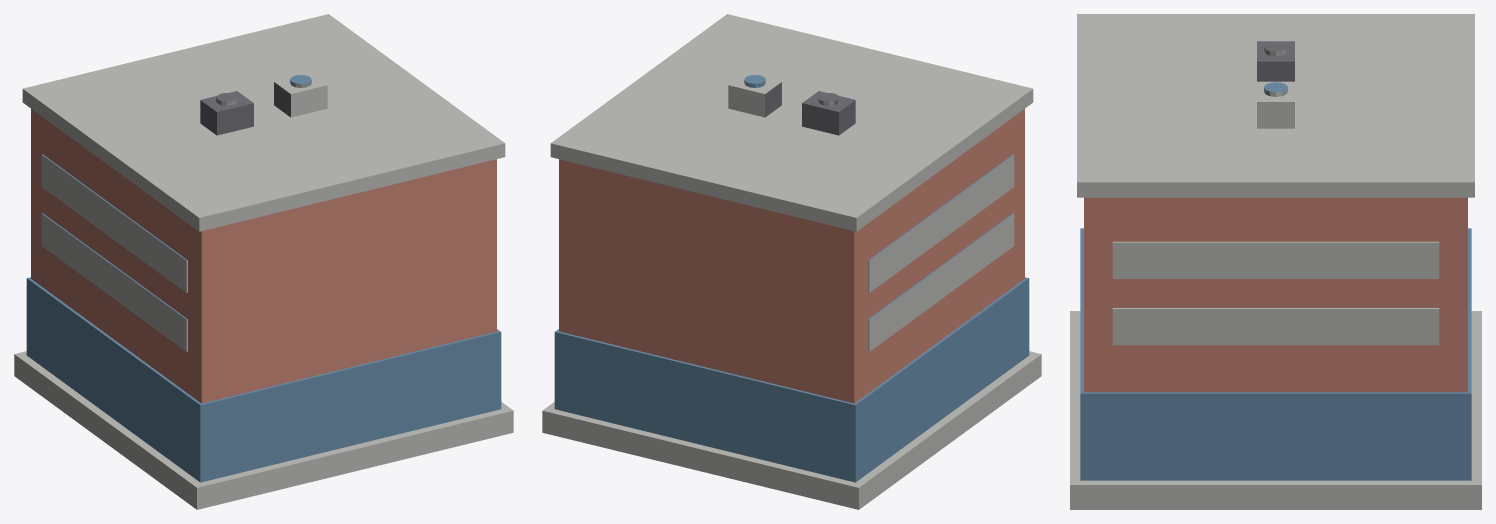
Rendered from apartment_corner_groundstore.glb.
3 renders of one model, left to right at view 1: azimuth 30°, elevation 25°; view 2: azimuth 150°, elevation 25°; view 3: azimuth 270°, elevation 25°, orthographic. The views are drawn at different scales.
Parts seen in each view (by area): view 1: apartment_corner_groundstore; view 2: apartment_corner_groundstore; view 3: apartment_corner_groundstore.
Part boxes in pixels (x1,y1,x2,y2): apartment_corner_groundstore: (14,14,513,509); apartment_corner_groundstore: (542,14,1041,509); apartment_corner_groundstore: (1070,14,1481,509).
Size of the model in its own units: 12 by 11.45 by 12.
